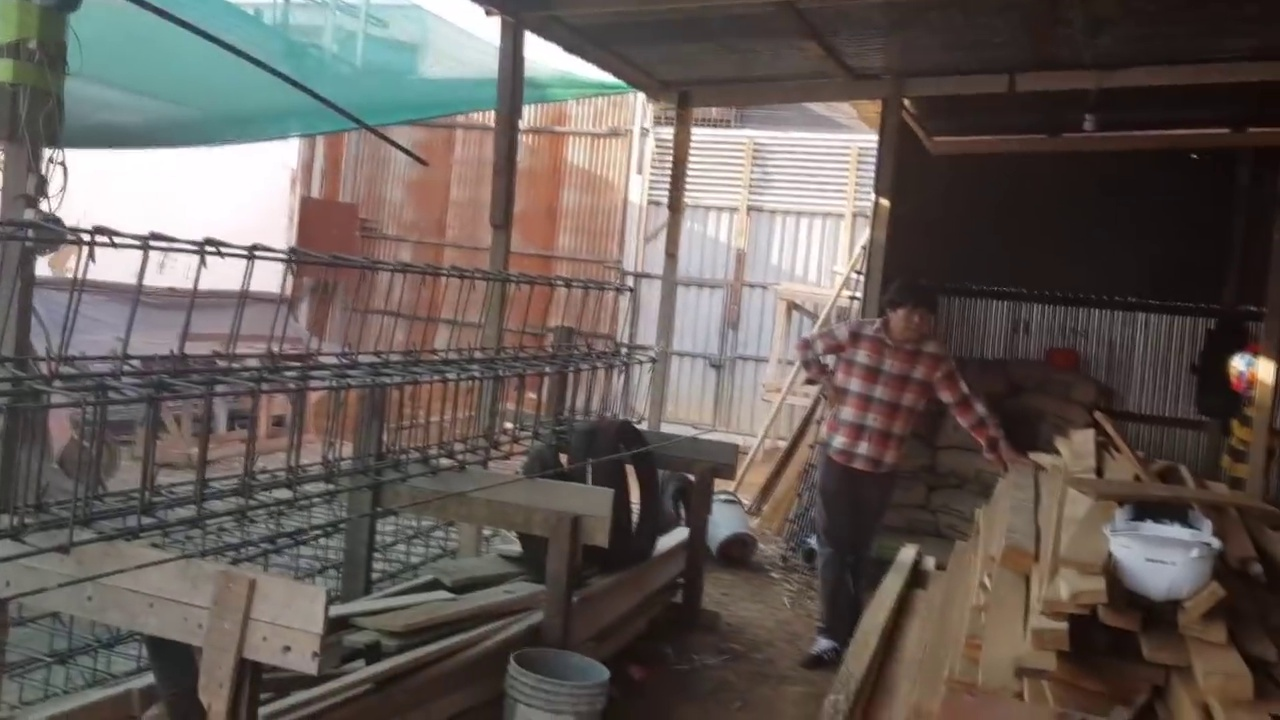helmet-off: (877, 278, 945, 351)
person: (787, 280, 1070, 634)
